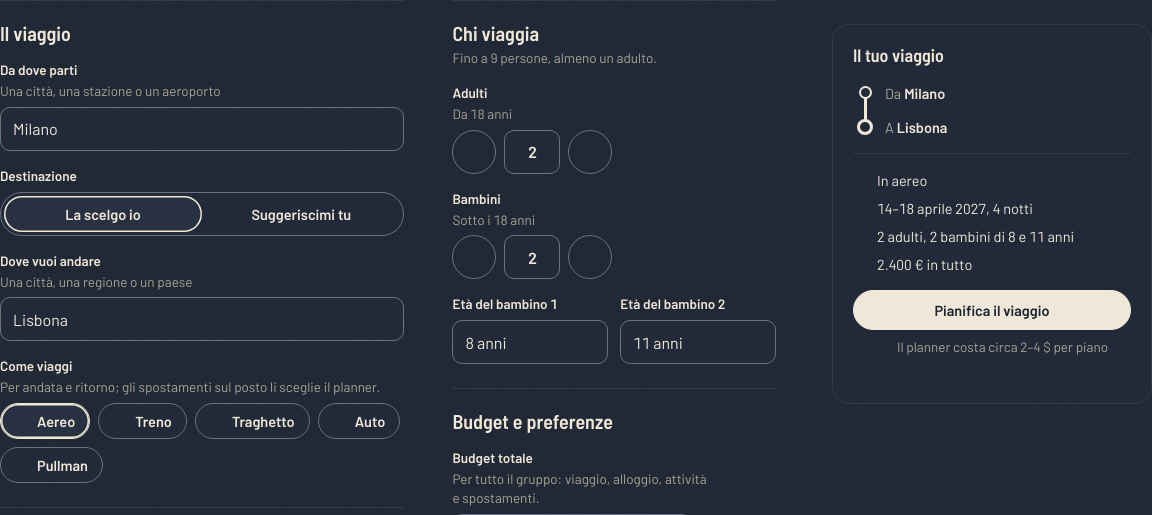
Test: RequestForm › puts a 422 on the mode under its row
This screenshot has width=1152, height=515.
Click the button "Pianifica il viaggio". click: (992, 310)
box: [853,290,1131,330]
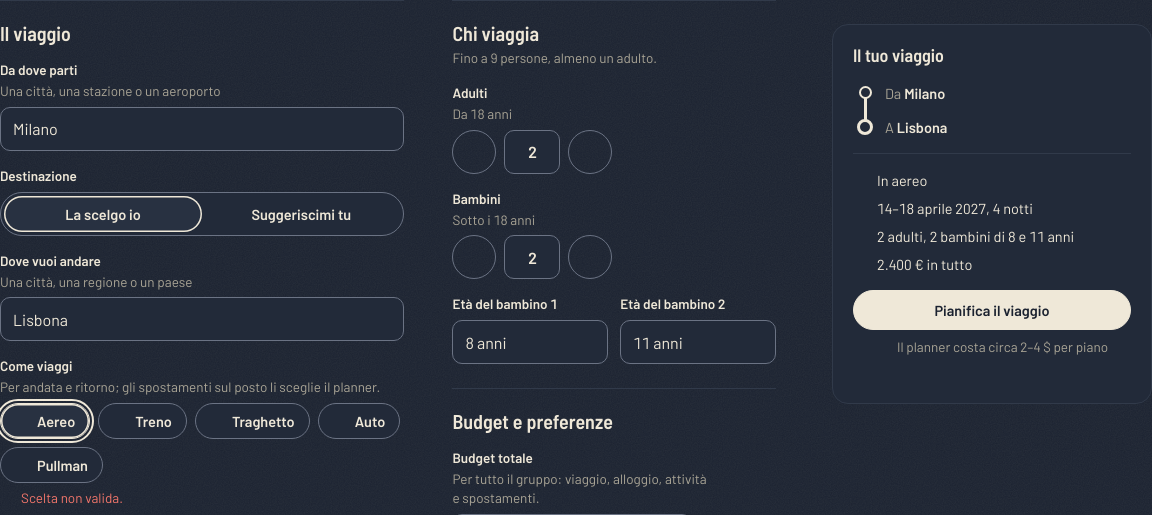
Click the radio button labelled "Treno". click: (142, 421)
box: [98,403,187,439]
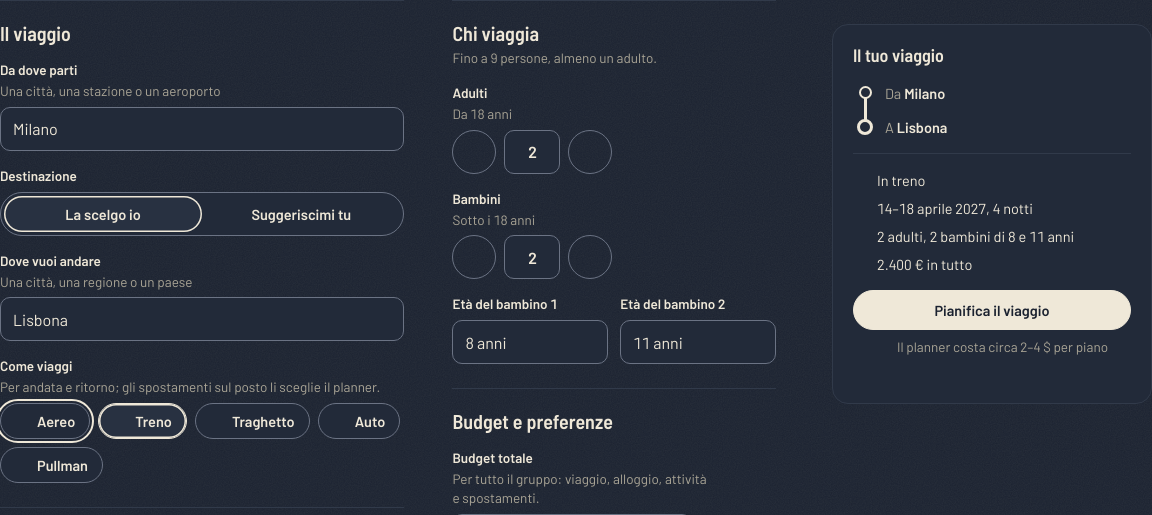
Now the text "Scelta non valida." is gone
